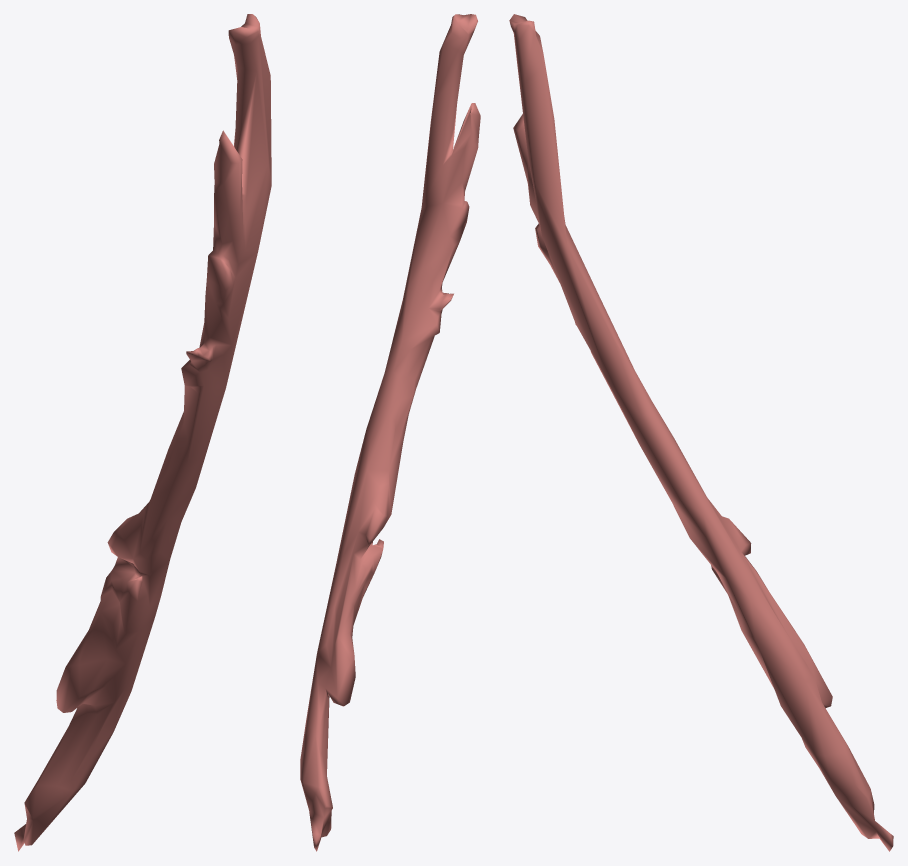
The picture shows the model from 3 angles, left to right: view 1: azimuth 30°, elevation 25°; view 2: azimuth 150°, elevation 25°; view 3: azimuth 270°, elevation 25°; orthographic projection. The views are drawn at different scales.
Visible parts, largest first — view 1: ZA_82c25d53b10b537b; view 2: ZA_82c25d53b10b537b; view 3: ZA_82c25d53b10b537b.
Boxes of the visible parts, bbox=[...] form: ZA_82c25d53b10b537b: bbox=[14, 14, 271, 851]; ZA_82c25d53b10b537b: bbox=[300, 14, 480, 851]; ZA_82c25d53b10b537b: bbox=[509, 14, 893, 851].
Bounding box in the file's own units: 0.00792 × 0.1058 × 0.0438.
